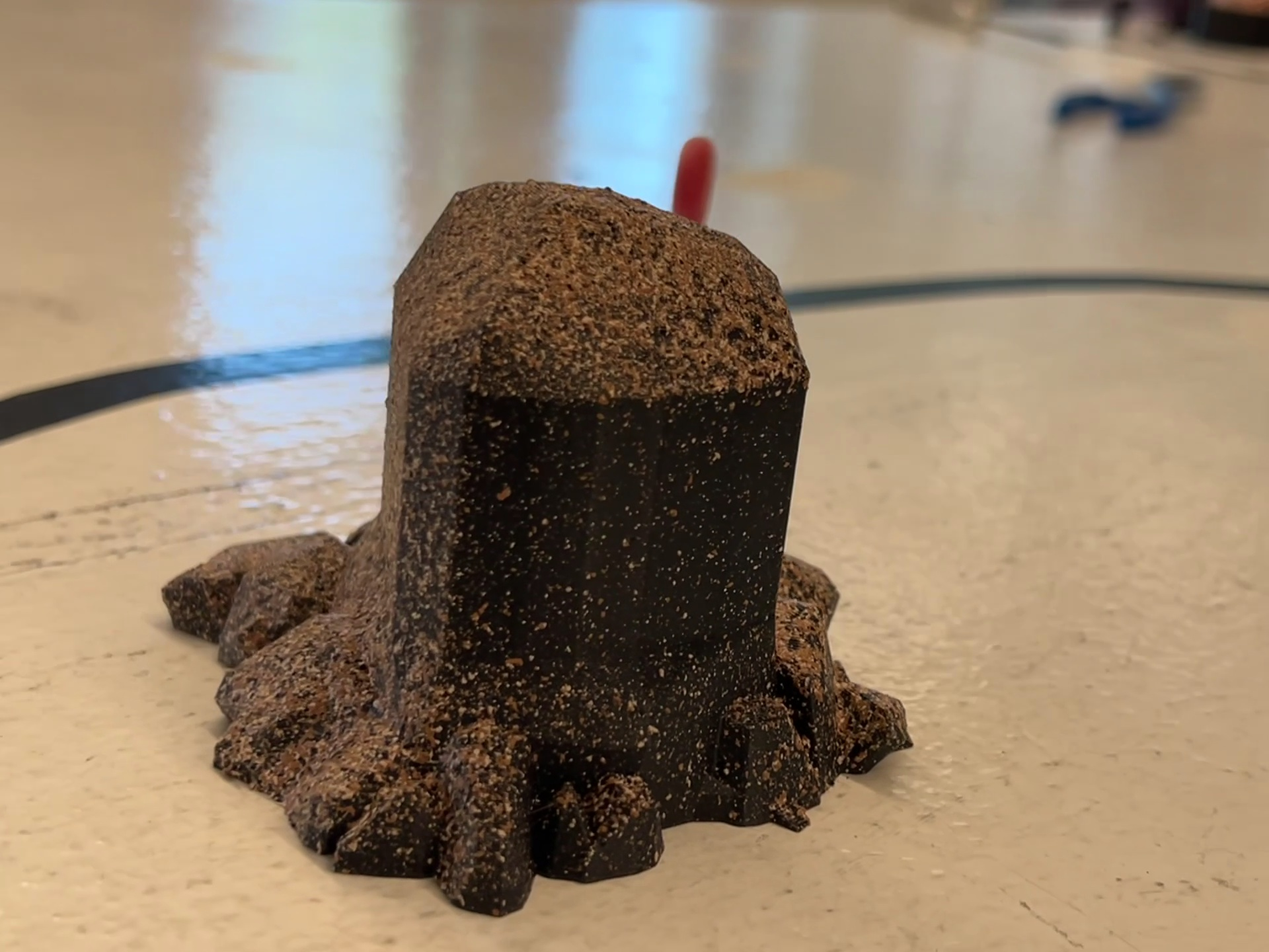teletubby: (672, 138, 716, 223)
